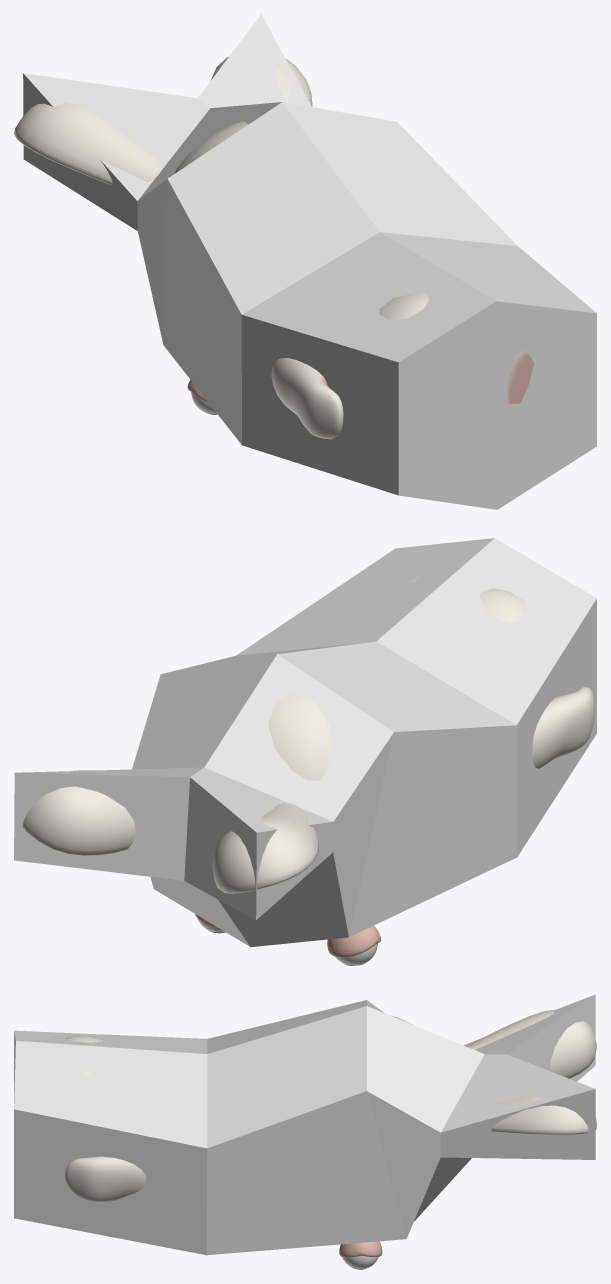
The model's file is Rabbid_Gen_Rest_Smile.fbx.
3 views of the same model, one above another, from view 1: azimuth 30°, elevation 25°; view 2: azimuth 150°, elevation 25°; view 3: azimuth 270°, elevation 25° (orthographic). The views are drawn at different scales.
Parts seen in each view (by area): view 1: c_Rabbid_Gen_Rest_Smile, Rabbid_Gen_Rest_Smile; view 2: c_Rabbid_Gen_Rest_Smile, Rabbid_Gen_Rest_Smile; view 3: c_Rabbid_Gen_Rest_Smile, Rabbid_Gen_Rest_Smile.
Part boxes in pixels (left/top/right/bottom): c_Rabbid_Gen_Rest_Smile: left=23, top=14, right=596, bottom=509; Rabbid_Gen_Rest_Smile: left=14, top=56, right=534, bottom=439; c_Rabbid_Gen_Rest_Smile: left=14, top=538, right=596, bottom=947; Rabbid_Gen_Rest_Smile: left=23, top=576, right=595, bottom=965; c_Rabbid_Gen_Rest_Smile: left=14, top=994, right=595, bottom=1255; Rabbid_Gen_Rest_Smile: left=65, top=1009, right=596, bottom=1269.
Bounding box in the file's own units: 30.28 × 30.01 × 66.08.
